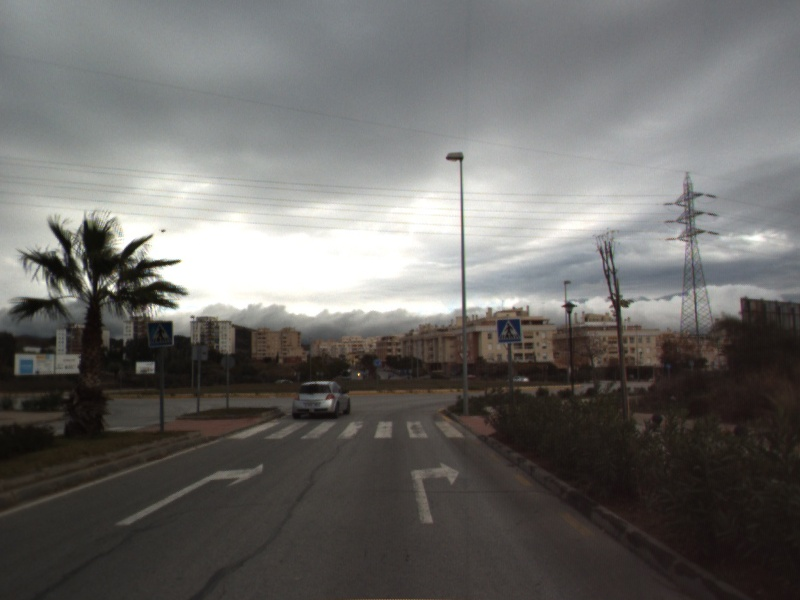RIGHT: (113, 462, 265, 528), (408, 460, 462, 526)
